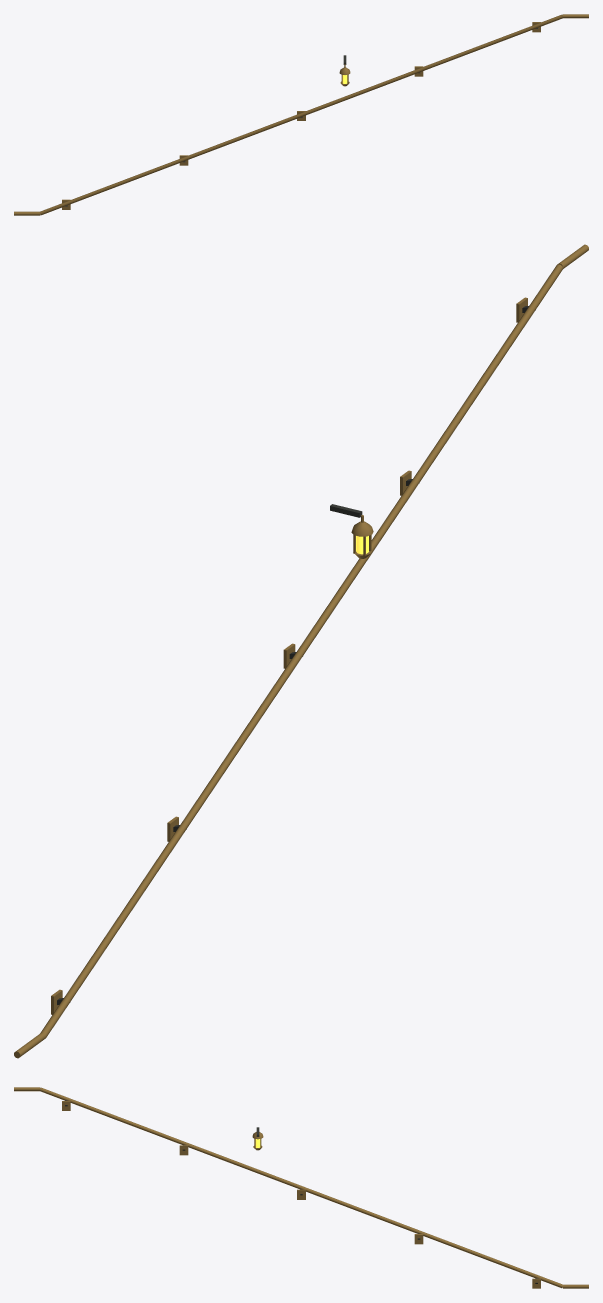
The model's file is stair_rail_12_r.glb.
The picture shows the model from 3 angles, top to bottom: view 1: azimuth 90°, elevation 25°; view 2: azimuth 150°, elevation 25°; view 3: azimuth 270°, elevation 25°; orthographic projection. The views are drawn at different scales.
Visible parts, largest first — view 1: stair_rail_12_r; view 2: stair_rail_12_r; view 3: stair_rail_12_r.
Part boxes in pixels (left/top/right/bottom): stair_rail_12_r: left=14, top=14, right=588, bottom=215; stair_rail_12_r: left=14, top=244, right=588, bottom=1058; stair_rail_12_r: left=14, top=1087, right=588, bottom=1288.
Bounding box in the file's own units: 0.5595 × 5.08 × 13.2.
